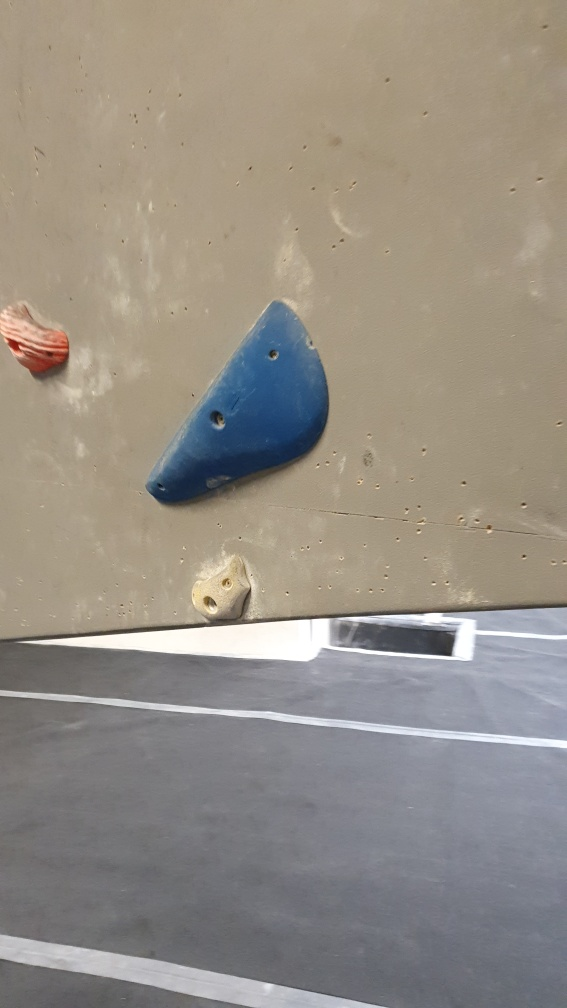Jug: (1, 297, 72, 377)
